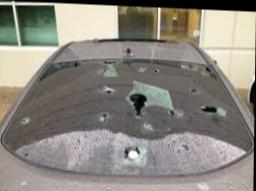Windshield: (0, 59, 255, 173)
